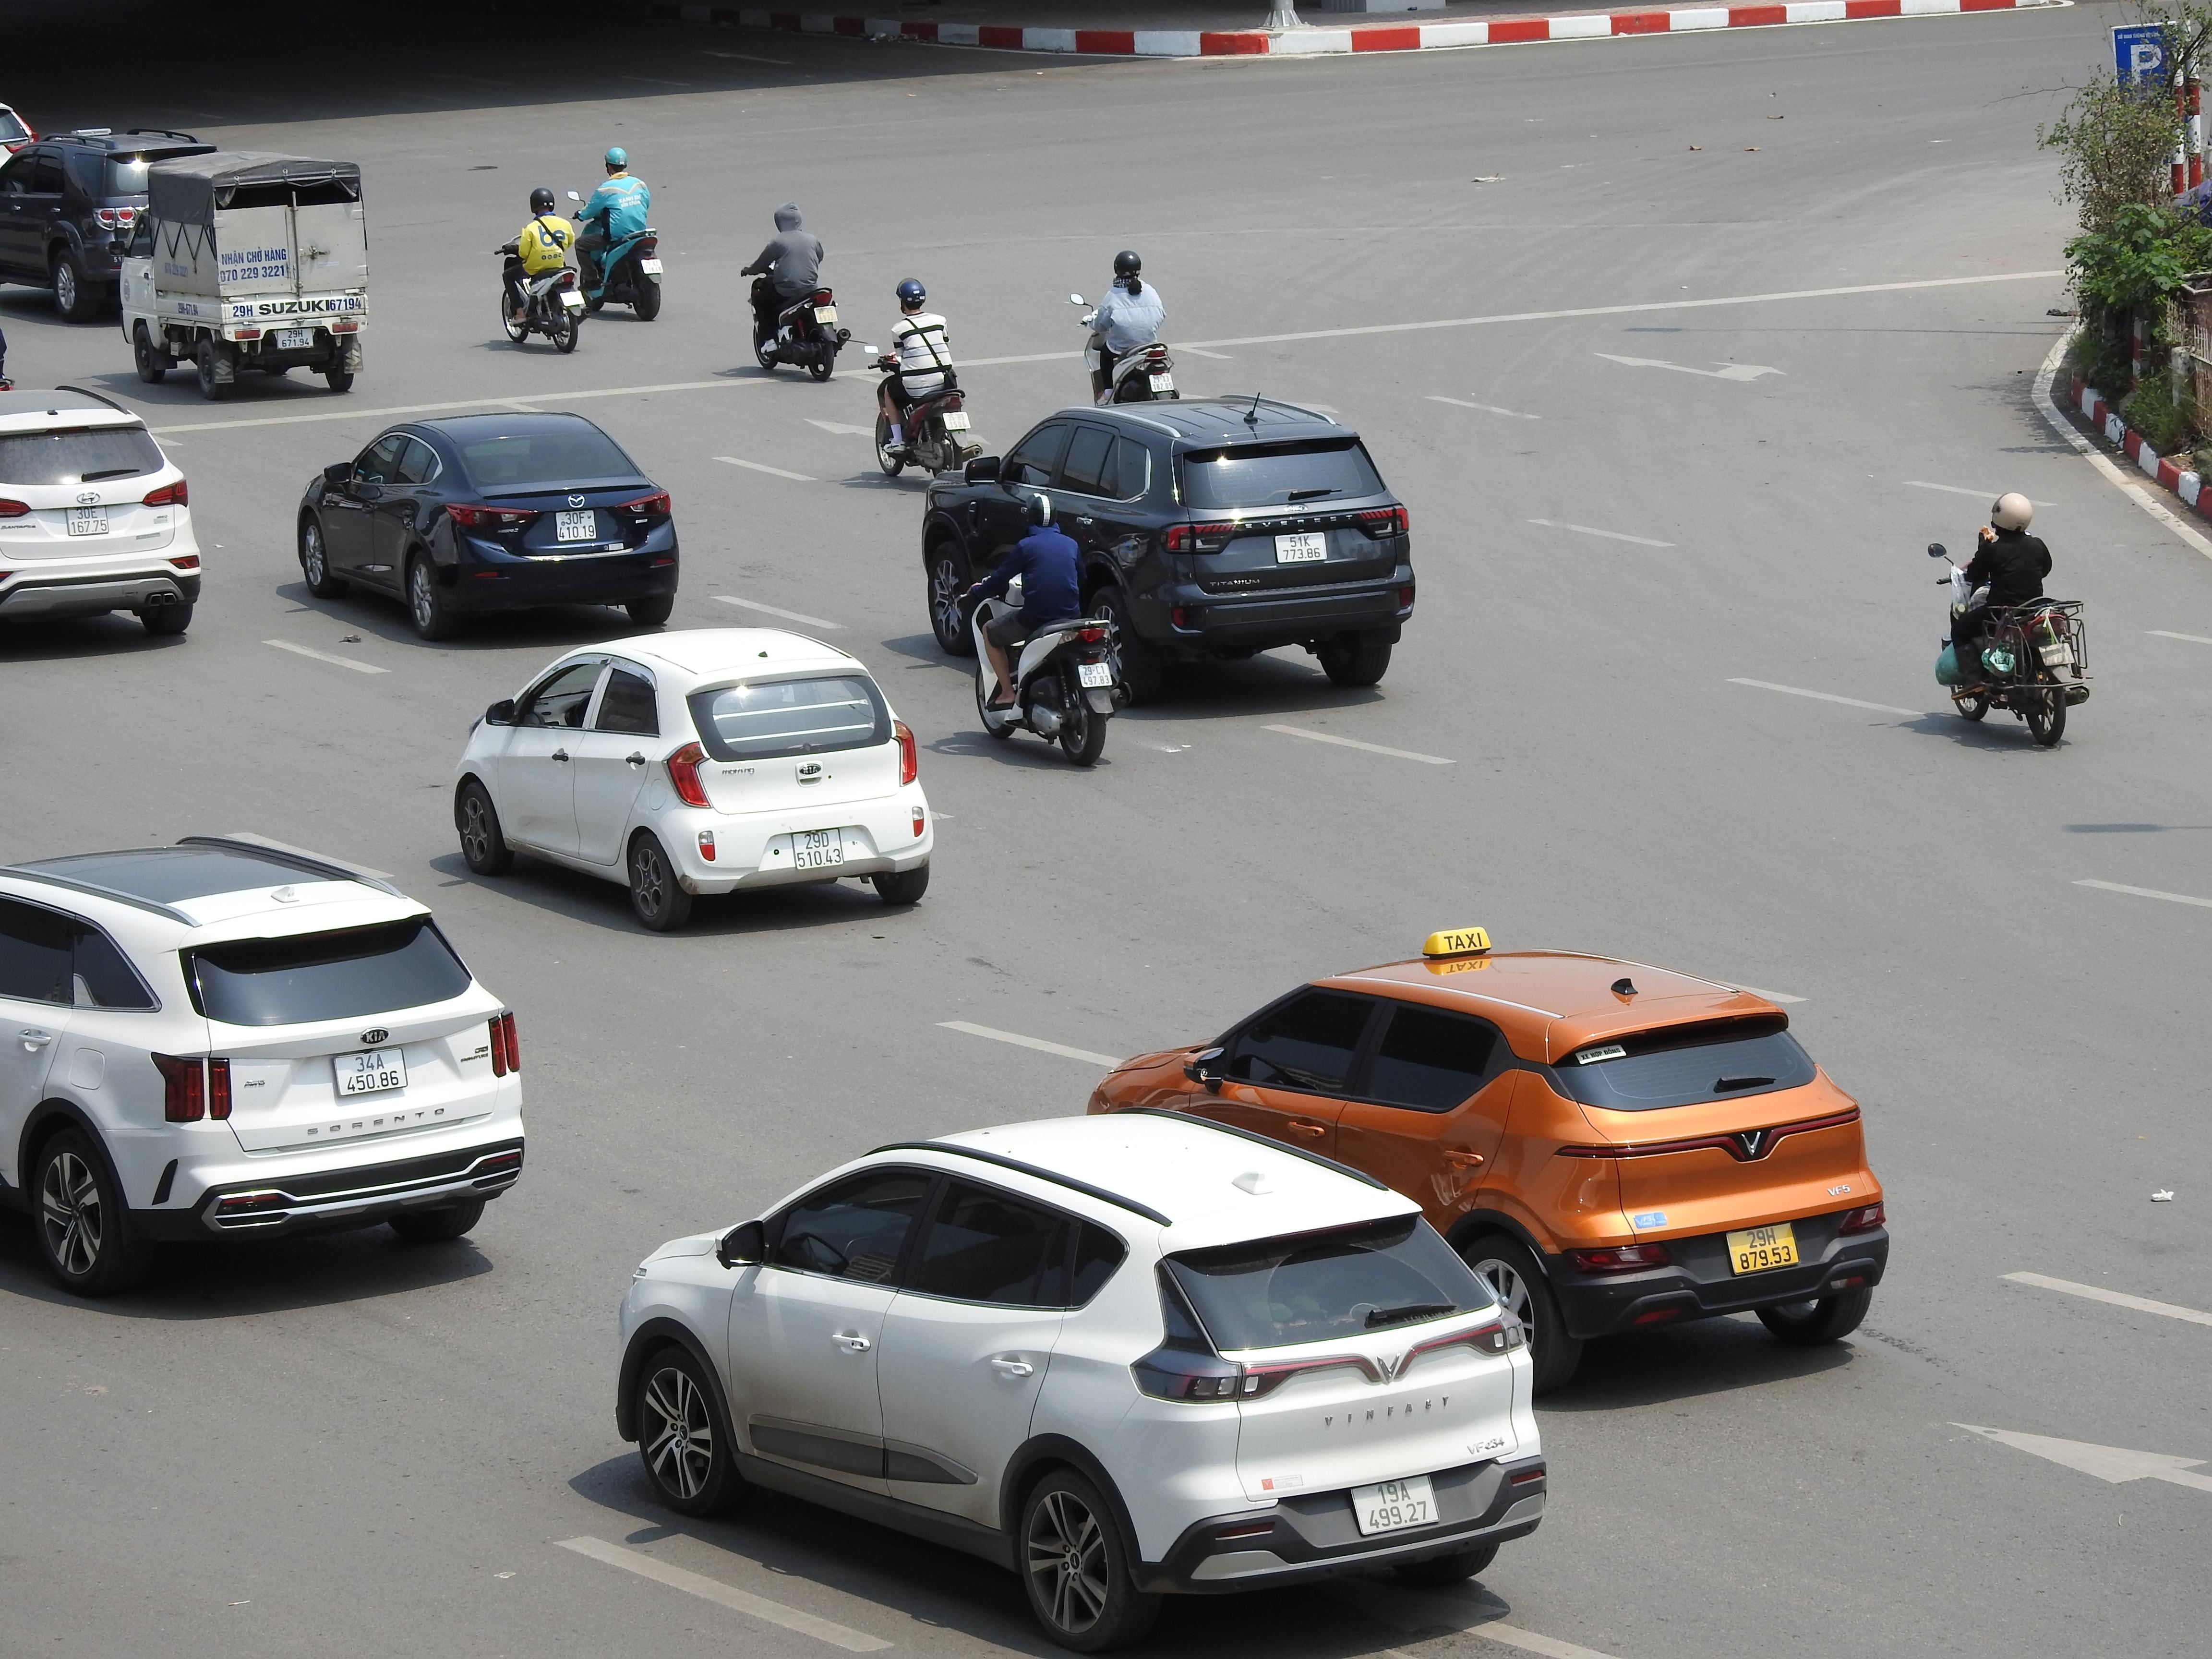BSV: (1353, 1474, 1440, 1537), (1726, 1222, 1797, 1276), (333, 1047, 408, 1098), (794, 829, 843, 870), (1275, 532, 1329, 565), (64, 505, 110, 537), (556, 509, 597, 540), (1076, 662, 1115, 688), (275, 326, 314, 350), (2040, 643, 2076, 666), (942, 411, 972, 429), (1148, 373, 1174, 392), (559, 289, 587, 307), (813, 305, 838, 324), (641, 258, 664, 275)
car: (611, 1101, 1550, 1656), (1087, 929, 1892, 1387), (0, 833, 529, 1293), (921, 394, 1416, 697), (449, 626, 934, 932), (294, 410, 679, 641), (0, 383, 204, 653), (0, 129, 219, 326)
motorbike: (968, 490, 1127, 770), (1932, 491, 2090, 751), (867, 277, 979, 483), (742, 202, 850, 382), (1073, 249, 1179, 406), (570, 148, 665, 321), (495, 186, 587, 354)
truck: (117, 150, 371, 401)
